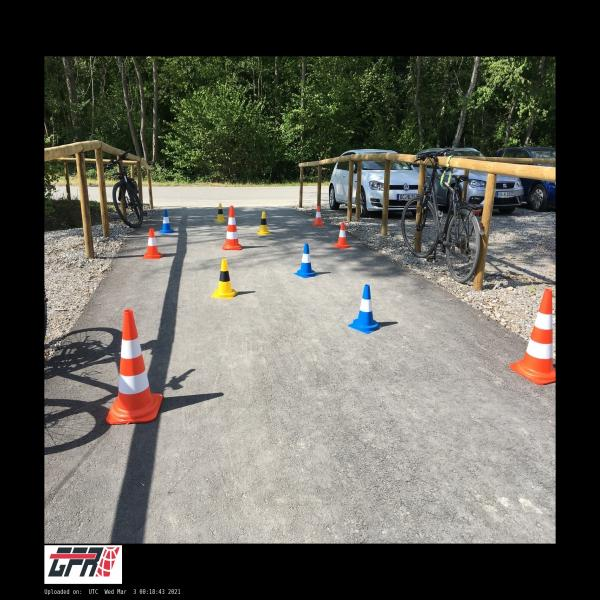blue_cone: (349, 284, 382, 334), (294, 244, 319, 278), (159, 209, 174, 234)
large_orange_cone: (106, 308, 163, 424), (510, 289, 556, 385), (222, 206, 242, 250)
orange_cone: (142, 228, 164, 259), (333, 222, 351, 248), (312, 206, 324, 226)
yellow_cone: (211, 258, 238, 298), (256, 212, 272, 234), (214, 204, 226, 222)
